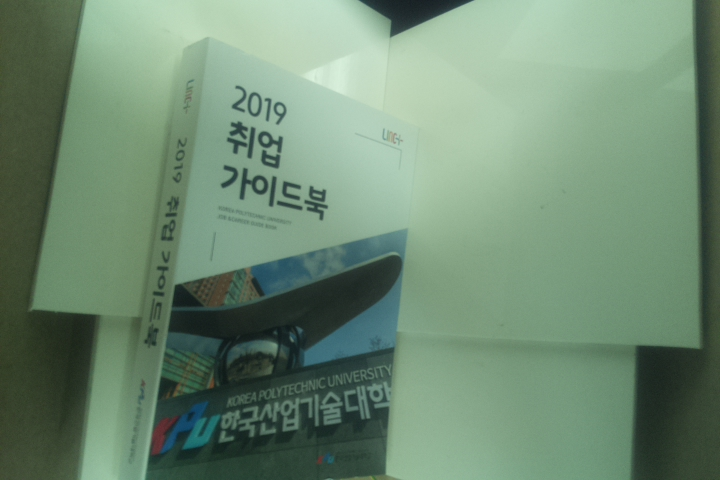book: (115, 34, 424, 480)
